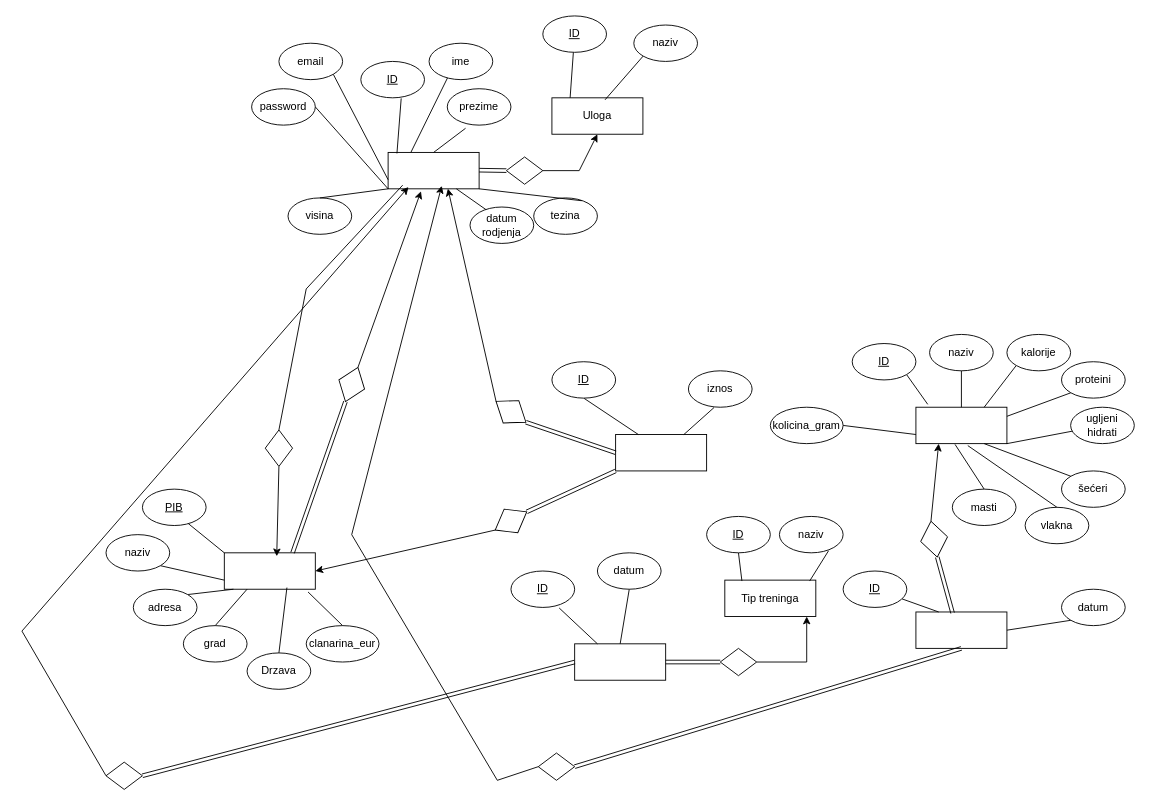
The diagram is 1151 pixels wide and 805 high, and some of its shapes have lost their labels. The centre of each missing label's shape, as x and y in pixels:
"Hrana" goes at point 961,425.
"Korisnik" goes at point 433,170.
"Obrok" goes at point 961,629.
"Teretana" goes at point 269,570.
"Transakcija" goes at point 661,452.
"Trening" goes at point 620,661.
